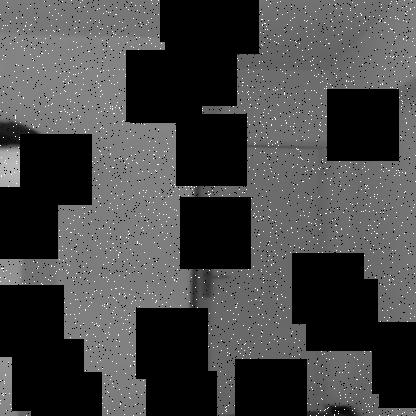Porte: (187, 139, 337, 416)
